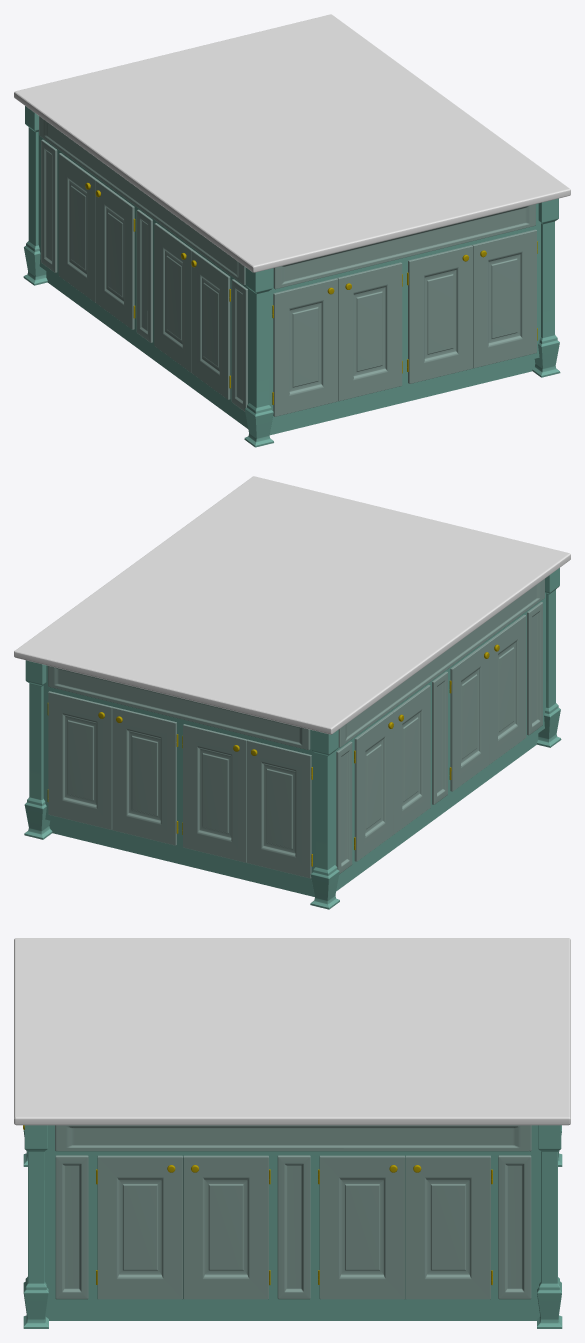
Rendered from Island_apr1.fbx.
The picture shows the model from 3 angles, top to bottom: view 1: azimuth 30°, elevation 25°; view 2: azimuth 150°, elevation 25°; view 3: azimuth 270°, elevation 25°; orthographic projection. The views are drawn at different scales.
Visible parts, largest first — view 1: polySurface646, polySurface552, polySurface539, polySurface553, polySurface536, polySurface608, polySurface617, polySurface612, polySurface603; view 2: polySurface646, polySurface623, polySurface634, polySurface631, polySurface626, polySurface612, polySurface603, polySurface608, polySurface617; view 3: polySurface646, polySurface556, polySurface557.
Part boxes in pixels (bbox=[...]): polySurface646: bbox=[14, 14, 570, 447]; polySurface552: bbox=[272, 278, 338, 416]; polySurface539: bbox=[407, 245, 472, 383]; polySurface553: bbox=[337, 262, 402, 401]; polySurface536: bbox=[472, 229, 537, 368]; polySurface608: bbox=[191, 250, 230, 399]; polySurface617: bbox=[95, 180, 134, 329]; polySurface612: bbox=[58, 153, 97, 302]; polySurface603: bbox=[154, 223, 192, 372]; polySurface646: bbox=[14, 476, 570, 909]; polySurface623: bbox=[112, 707, 176, 845]; polySurface634: bbox=[48, 691, 112, 829]; polySurface631: bbox=[247, 739, 311, 878]; polySurface626: bbox=[183, 724, 247, 862]; polySurface612: bbox=[354, 712, 393, 861]; polySurface603: bbox=[450, 642, 489, 791]; polySurface608: bbox=[487, 615, 526, 764]; polySurface617: bbox=[392, 685, 430, 834]; polySurface646: bbox=[14, 938, 570, 1328]; polySurface556: bbox=[96, 1155, 270, 1299]; polySurface557: bbox=[318, 1155, 492, 1299].
Size of the model in its own units: 1.61 by 0.8956 by 2.1.
